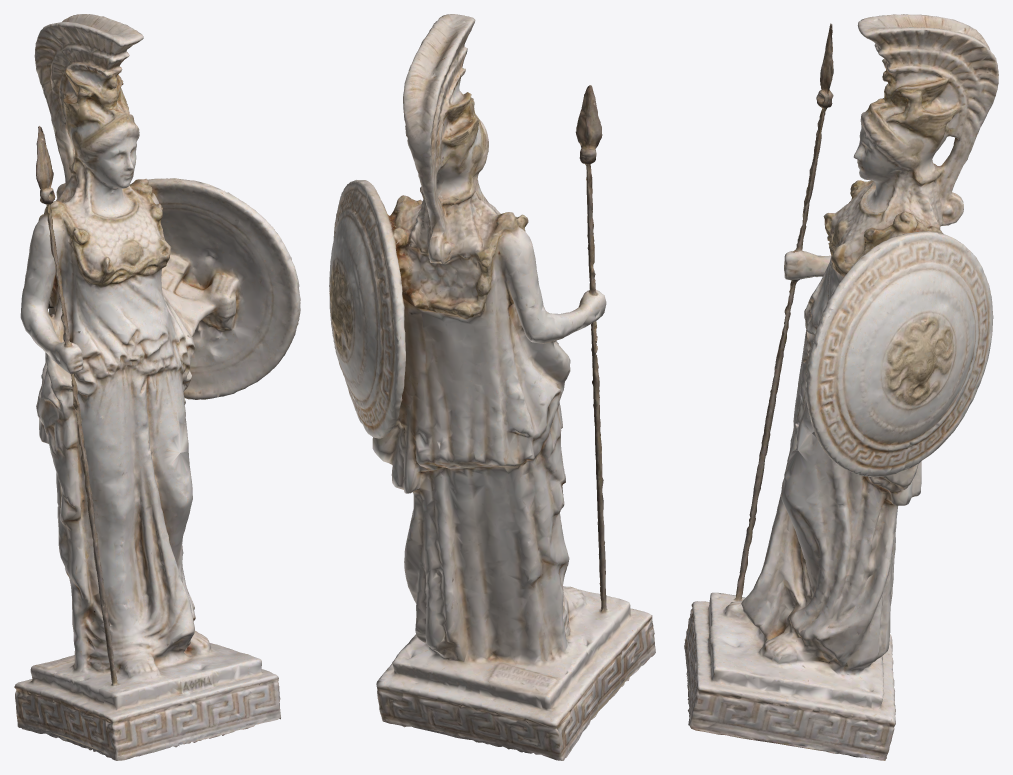
File: promachos.glb
3 views of the same model, side by side, from view 1: azimuth 30°, elevation 25°; view 2: azimuth 150°, elevation 25°; view 3: azimuth 270°, elevation 25° (orthographic). The views are drawn at different scales.
Visible parts, largest first — view 1: Object_3; view 2: Object_3; view 3: Object_3.
Part boxes in pixels (left/top/right/bottom): Object_3: left=14, top=14, right=300, bottom=760; Object_3: left=329, top=14, right=655, bottom=760; Object_3: left=684, top=14, right=998, bottom=760.
Size of the model in its own units: 12.77 by 31.73 by 12.83.
2 materials, 1 textured.
